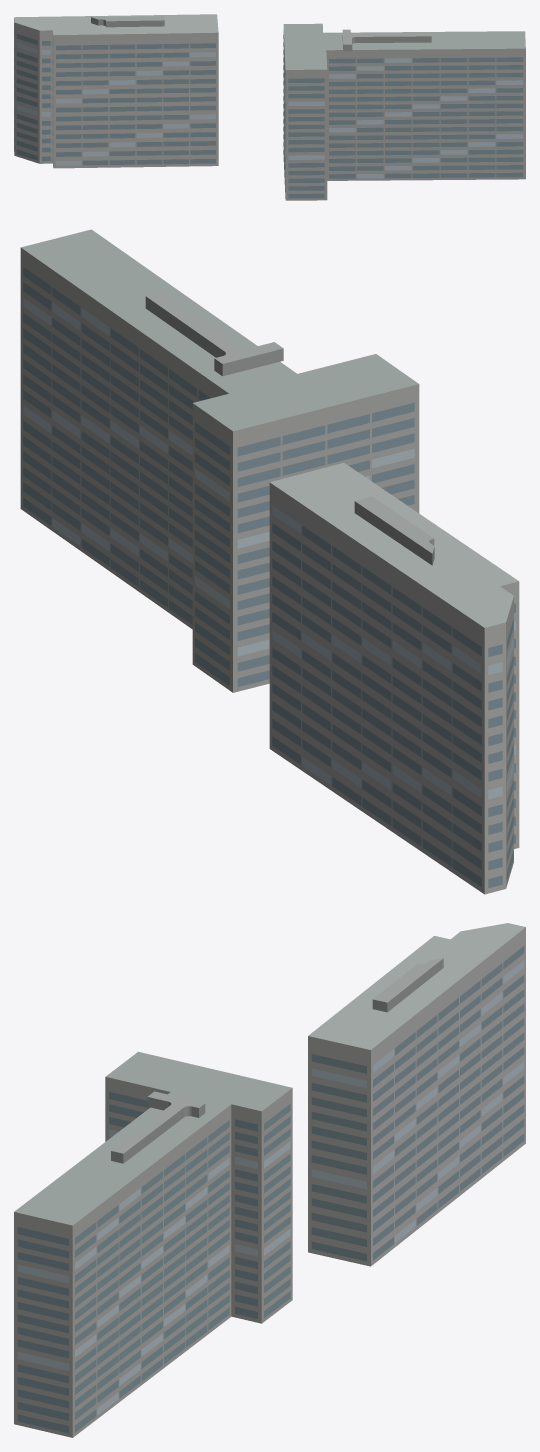
File: apt-a15185201.glb
3 renders of one model, top to bottom at view 1: azimuth 30°, elevation 25°; view 2: azimuth 150°, elevation 25°; view 3: azimuth 270°, elevation 25°, orthographic. The views are drawn at different scales.
Visible parts, largest first — view 1: apt-a15185201; view 2: apt-a15185201; view 3: apt-a15185201.
Boxes of the visible parts, x1=… form: apt-a15185201: x1=14, y1=14, x2=525, y2=200; apt-a15185201: x1=20, y1=229, x2=519, y2=894; apt-a15185201: x1=14, y1=923, x2=525, y2=1437.
Bounding box in the file's own units: 135 × 47.81 × 98.07.
